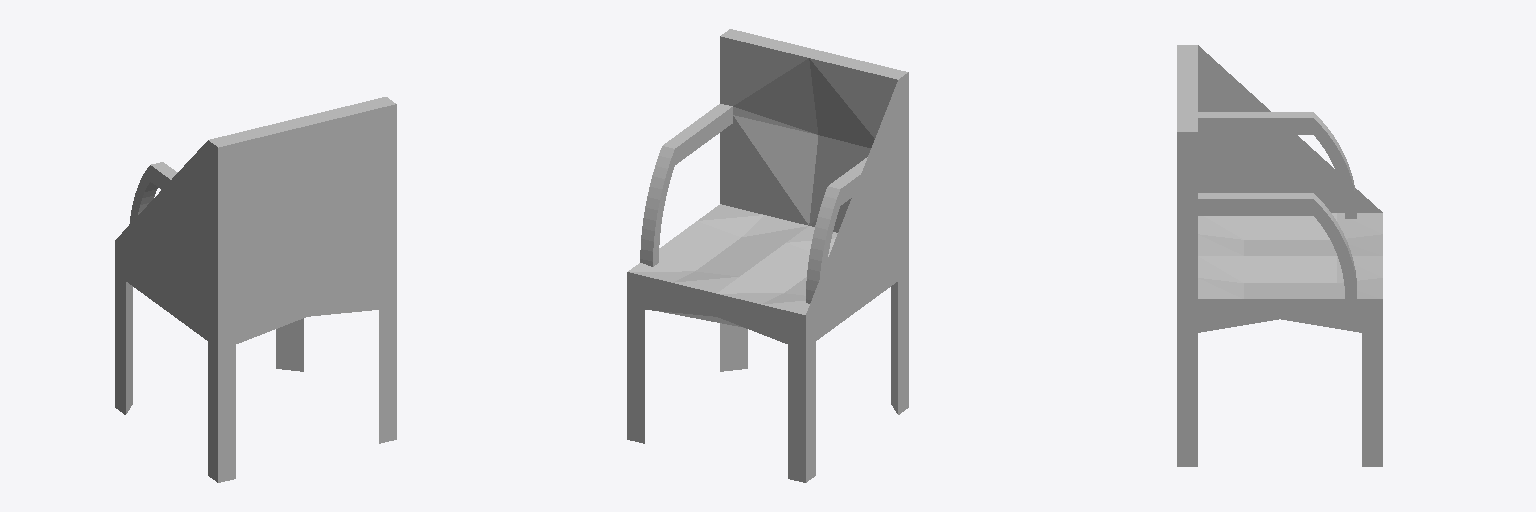
Rendered from silla_ext_12.obj.
3 renders of one model, left to right at view 1: azimuth 30°, elevation 25°; view 2: azimuth 150°, elevation 25°; view 3: azimuth 270°, elevation 25°, orthographic.
Parts seen in each view (by area): view 1: Cubo.015_Cubo.043; view 2: Cubo.015_Cubo.043; view 3: Cubo.015_Cubo.043.
Boxes of the visible parts, x1,y1,x2,y2 form: Cubo.015_Cubo.043: [115, 97, 396, 482]; Cubo.015_Cubo.043: [627, 29, 908, 482]; Cubo.015_Cubo.043: [1177, 45, 1382, 466].
Size of the model in its own units: 0.5 by 0.9 by 0.5.